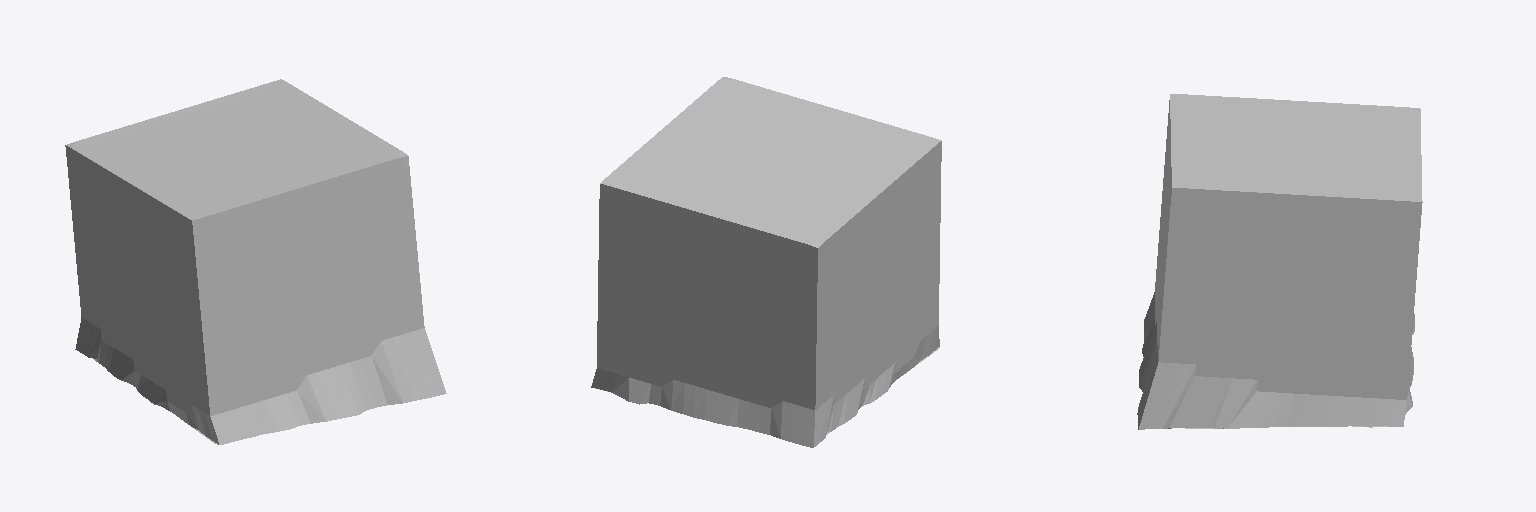
The model's file is mod0019.obj.
3 views of the same model, side by side, from view 1: azimuth 30°, elevation 25°; view 2: azimuth 150°, elevation 25°; view 3: azimuth 270°, elevation 25° (orthographic).
Visible parts, largest first — view 1: Box001; view 2: Box001; view 3: Box001.
Part boxes in pixels (x1,y1,x2,y2): Box001: (65,79,446,444); Box001: (591,77,941,447); Box001: (1137,94,1422,429).
Bounding box in the file's own units: 0.5979 × 0.5506 × 0.6135.